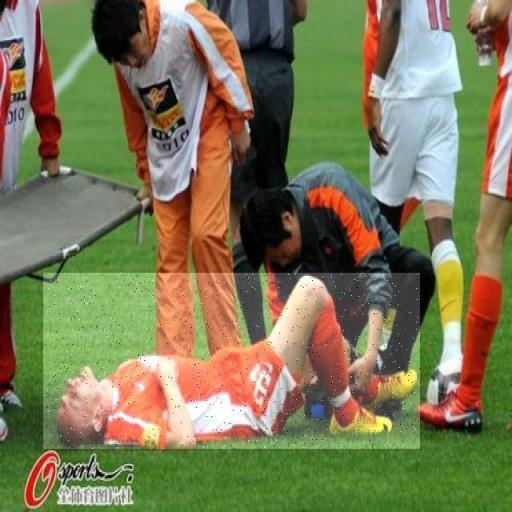Fall: (43, 273, 420, 449)
